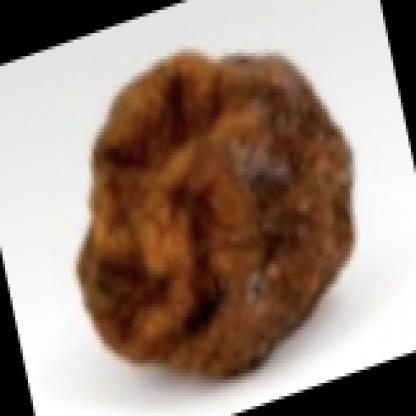rotten: (80, 59, 350, 376)
